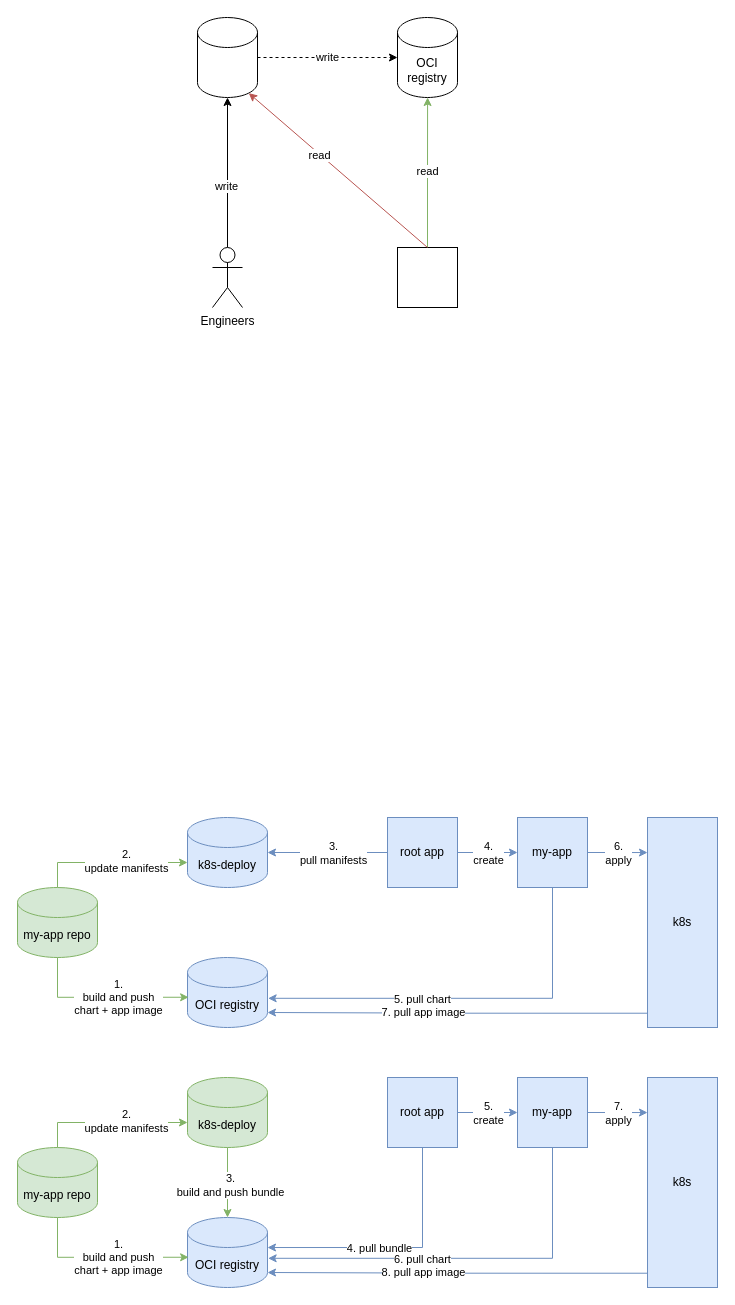
The diagram is 735 pixels wide and 1305 high, and some of its shapes have lost their labels. The shapes that lost their labels are listed below. From the top down, each one's centre as x and y in pixels, then its label:
At (x=227, y=57): "Git".
At (x=427, y=277): "GitOps controller".
